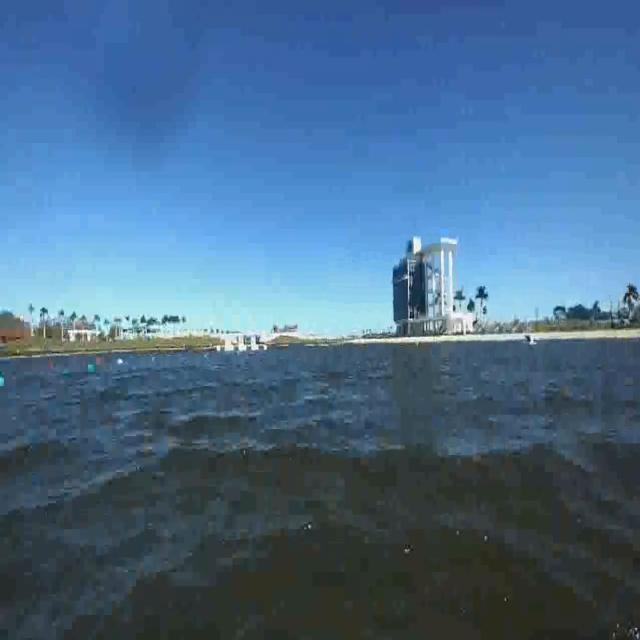green-buoy: (90, 363, 98, 372)
